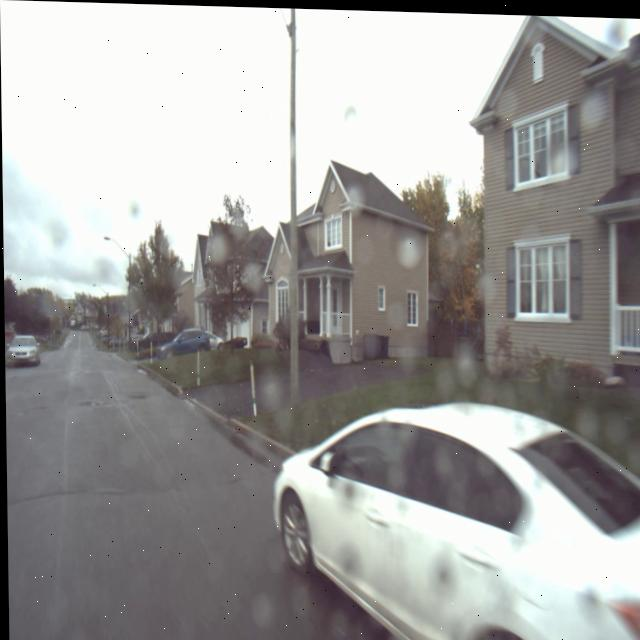car: (4, 321, 40, 377)
